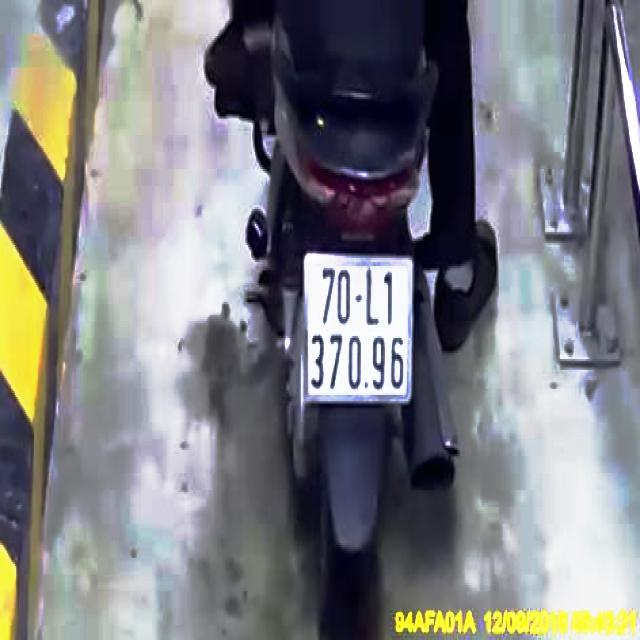license_plate: (302, 258, 413, 404)
